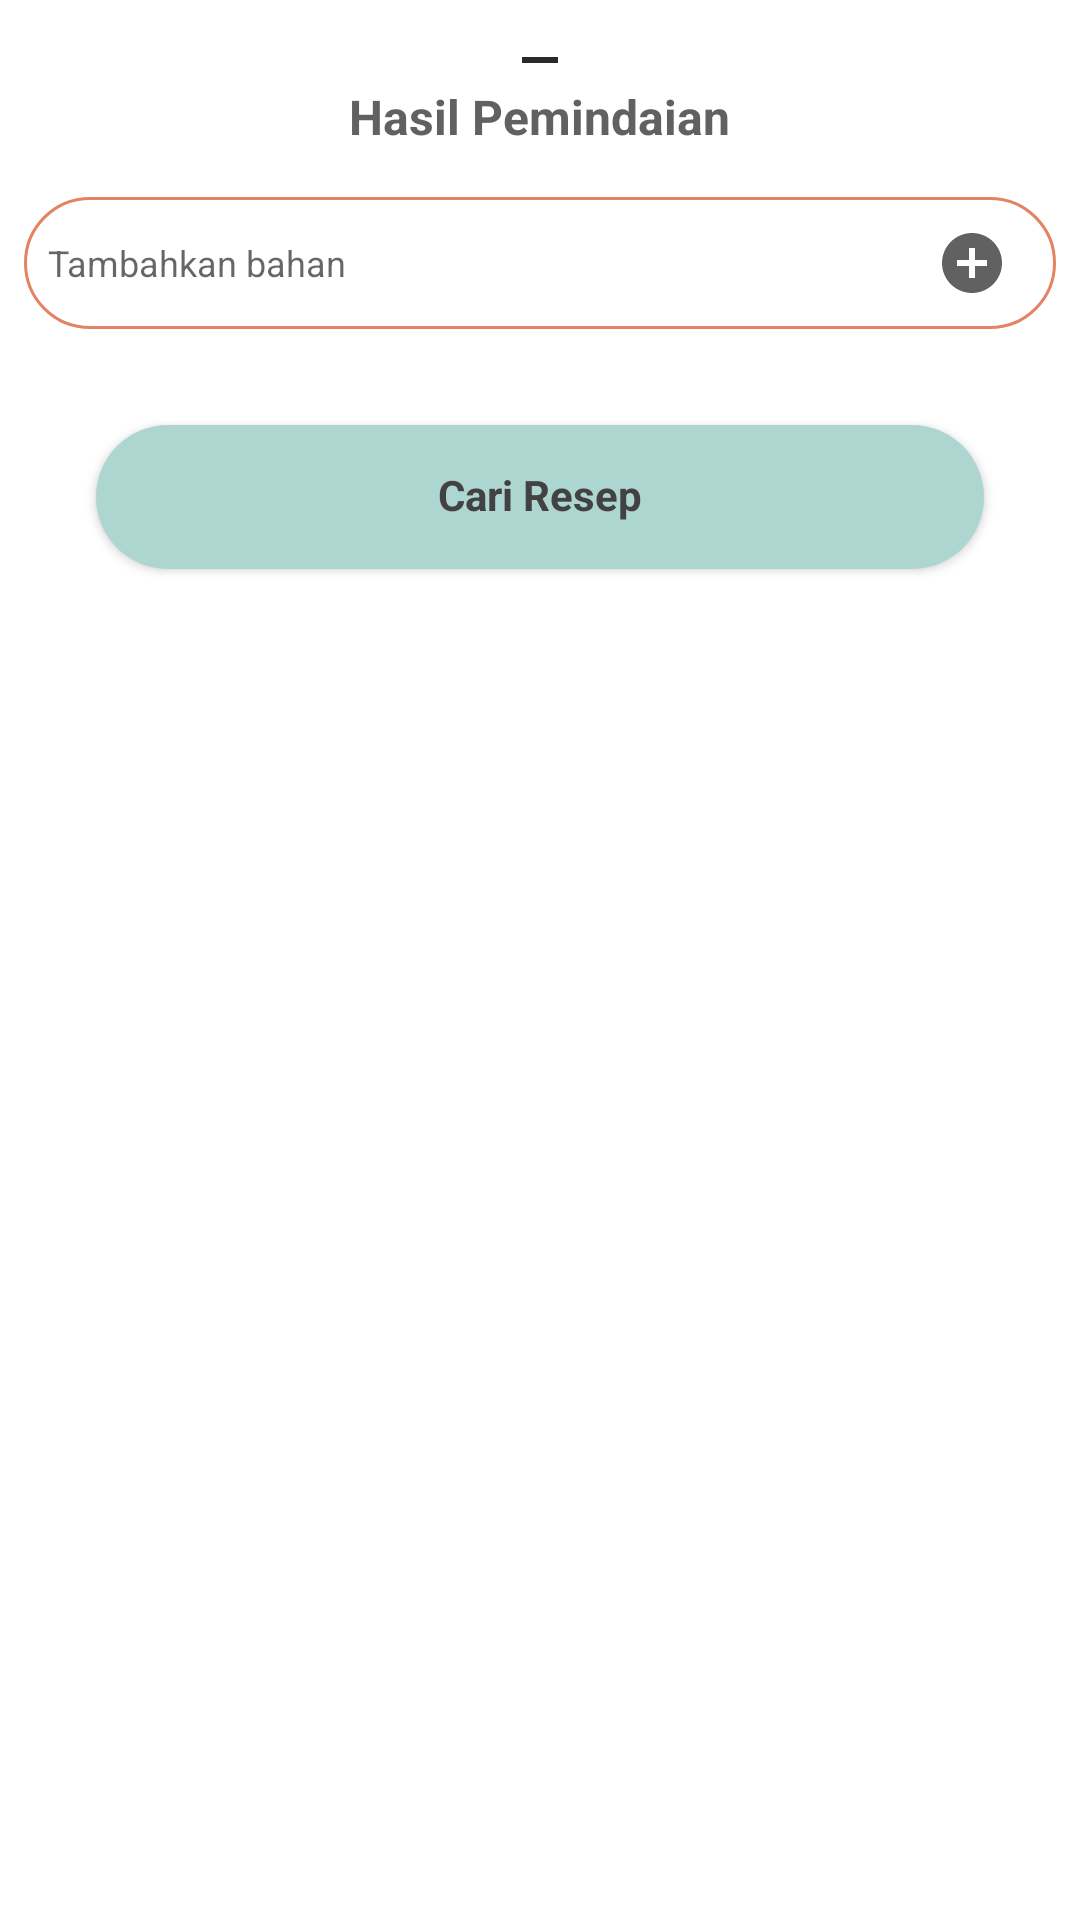

Named icons in this screenshot (1080 × 1920) and their bounding boxes, BBox(x1, y1, x2, y2):
circle add: BBox(942, 233, 1002, 293)
